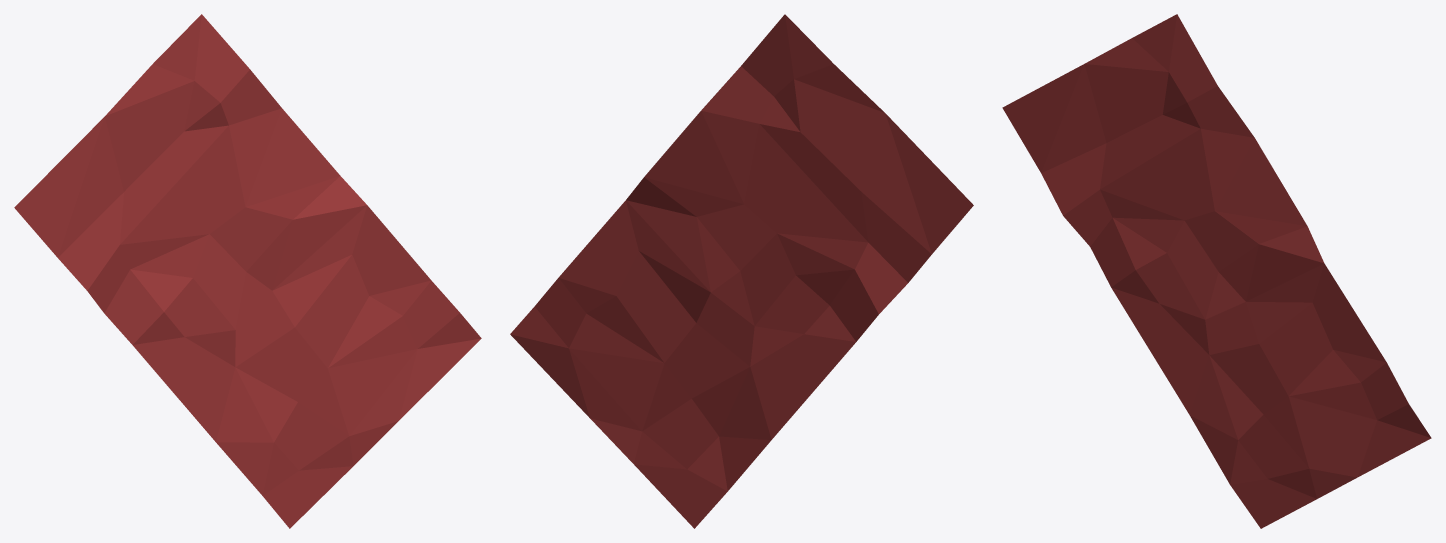
The model's file is Flag.001.fbx.
The picture shows the model from 3 angles, left to right: view 1: azimuth 30°, elevation 25°; view 2: azimuth 150°, elevation 25°; view 3: azimuth 330°, elevation 25°; orthographic projection. The views are drawn at different scales.
Parts seen in each view (by area): view 1: Flag.001; view 2: Flag.001; view 3: Flag.001.
Boxes of the visible parts, bbox=[...] form: Flag.001: bbox=[14, 14, 481, 528]; Flag.001: bbox=[510, 14, 973, 528]; Flag.001: bbox=[1002, 14, 1431, 528].
Size of the model in its own units: 99.49 by 110 by 2.45.
